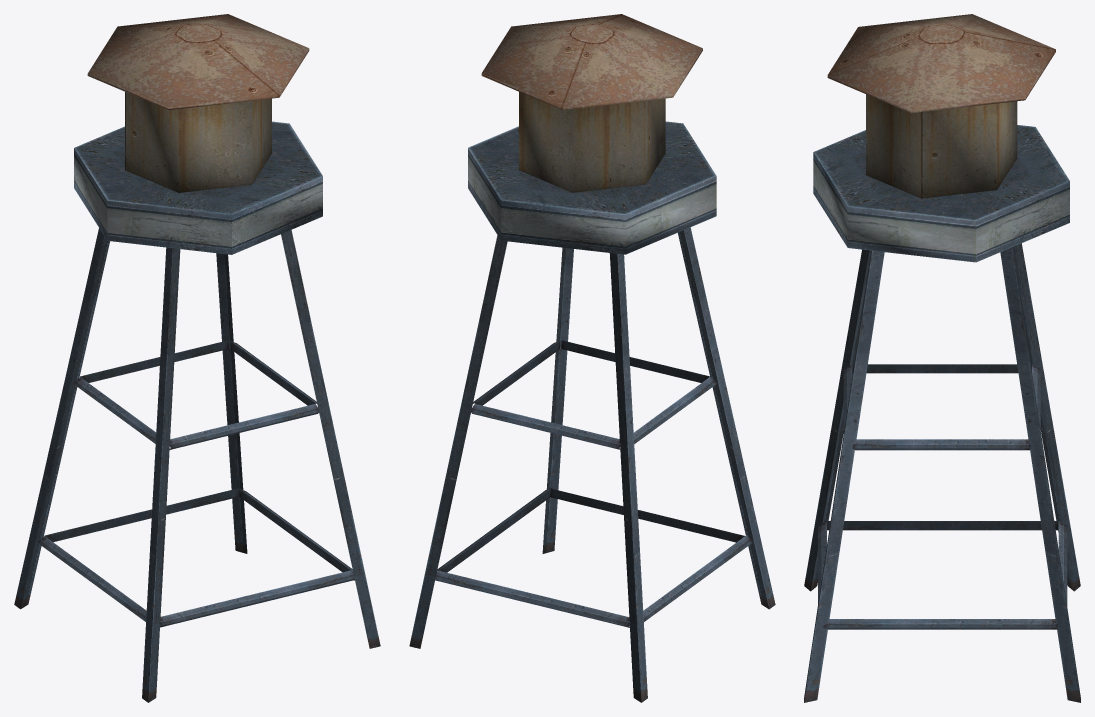
File: Prop_St01_lod2.glb
3 views of the same model, side by side, from view 1: azimuth 30°, elevation 25°; view 2: azimuth 150°, elevation 25°; view 3: azimuth 270°, elevation 25° (orthographic). The views are drawn at different scales.
Visible parts, largest first — view 1: xiutz_st_01_lod2; view 2: xiutz_st_01_lod2; view 3: xiutz_st_01_lod2.
Boxes of the visible parts, x1,y1,x2,y2 form: xiutz_st_01_lod2: (14, 14, 380, 702); xiutz_st_01_lod2: (409, 14, 775, 702); xiutz_st_01_lod2: (804, 14, 1080, 702).
Bounding box in the file's own units: 7.26 × 17.89 × 7.26.
1 material, 1 textured.
